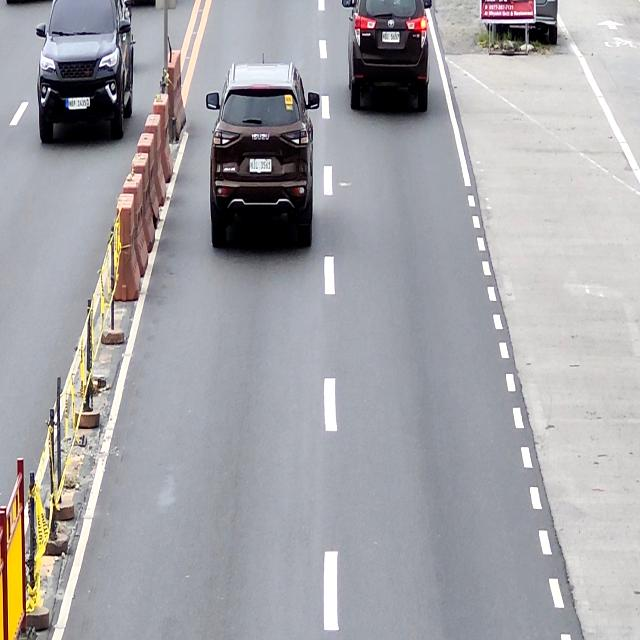Car: (206, 62, 319, 252), (338, 0, 434, 119)
License-Plate: (248, 159, 272, 174), (382, 30, 401, 46)
